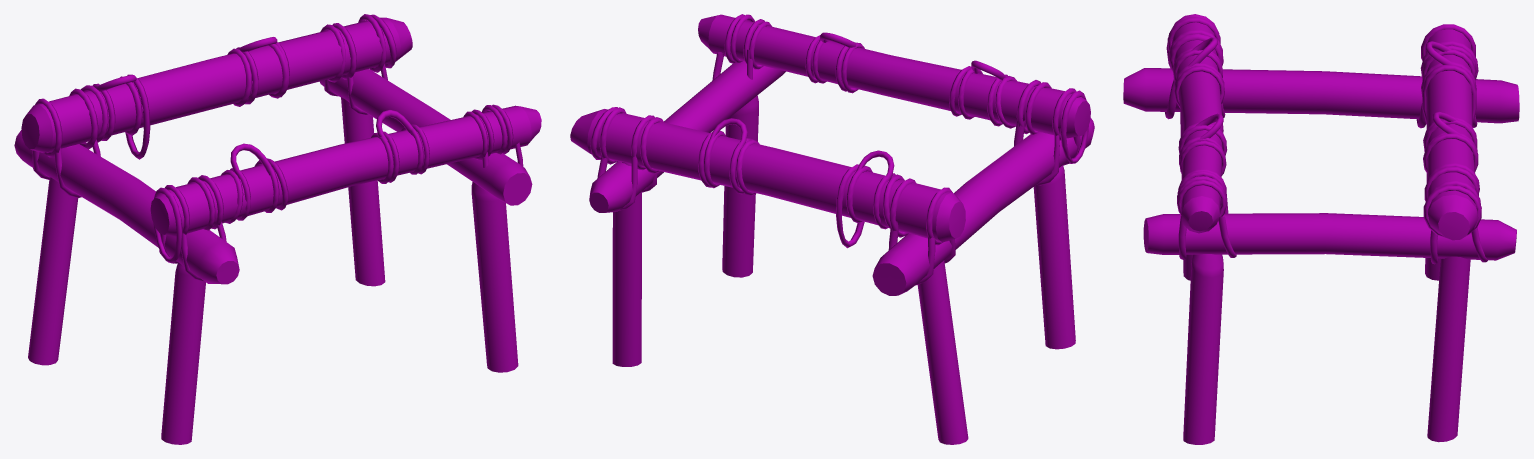
File: Platform_Wood_3.fbx
3 renders of one model, left to right at view 1: azimuth 30°, elevation 25°; view 2: azimuth 150°, elevation 25°; view 3: azimuth 270°, elevation 25°, orthographic.
Visible parts, largest first — view 1: polySurface1219; view 2: polySurface1219; view 3: polySurface1219, polySurface1218.
Part boxes in pixels (box(x1,y1,x2,y2)): polySurface1219: box(14, 14, 541, 444); polySurface1219: box(570, 14, 1094, 444); polySurface1219: box(1123, 14, 1519, 444); polySurface1218: box(1188, 37, 1217, 67).
Bounding box in the file's own units: 10.57 × 7.28 × 9.38.
